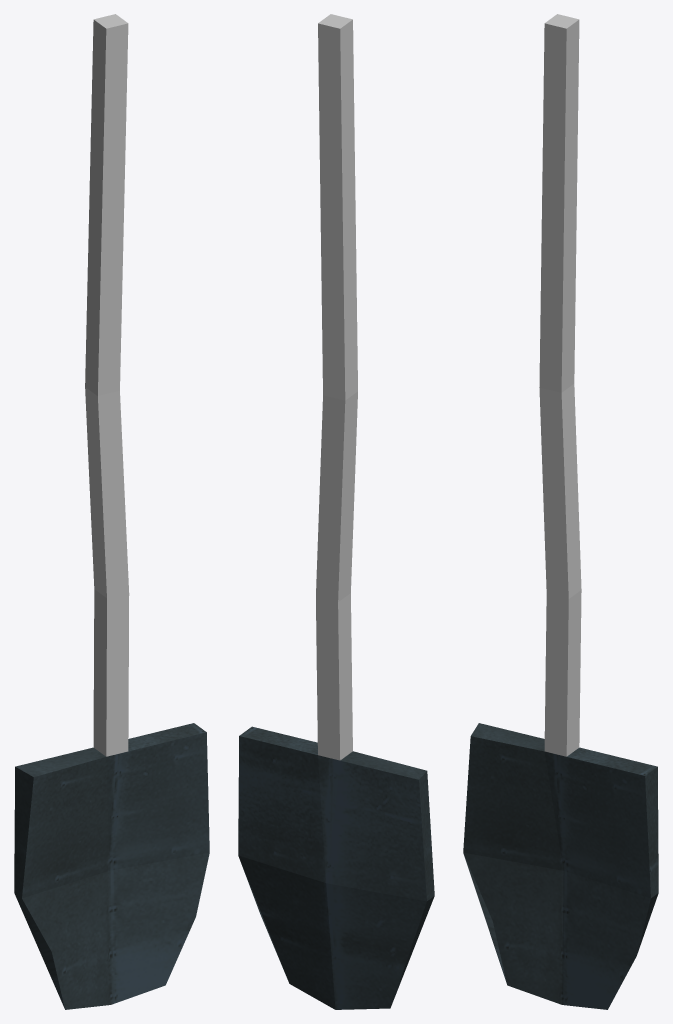
Rendered from Shovel.fbx.
The picture shows the model from 3 angles, left to right: view 1: azimuth 30°, elevation 25°; view 2: azimuth 150°, elevation 25°; view 3: azimuth 330°, elevation 25°; orthographic projection.
Parts seen in each view (by area): view 1: Shovel; view 2: Shovel; view 3: Shovel.
Boxes of the visible parts, box(x1,y1,x2,y2) form: Shovel: box(14, 14, 209, 1009); Shovel: box(238, 14, 434, 1009); Shovel: box(463, 14, 658, 1009).
Bounding box in the file's own units: 54 × 270 × 8.15.
